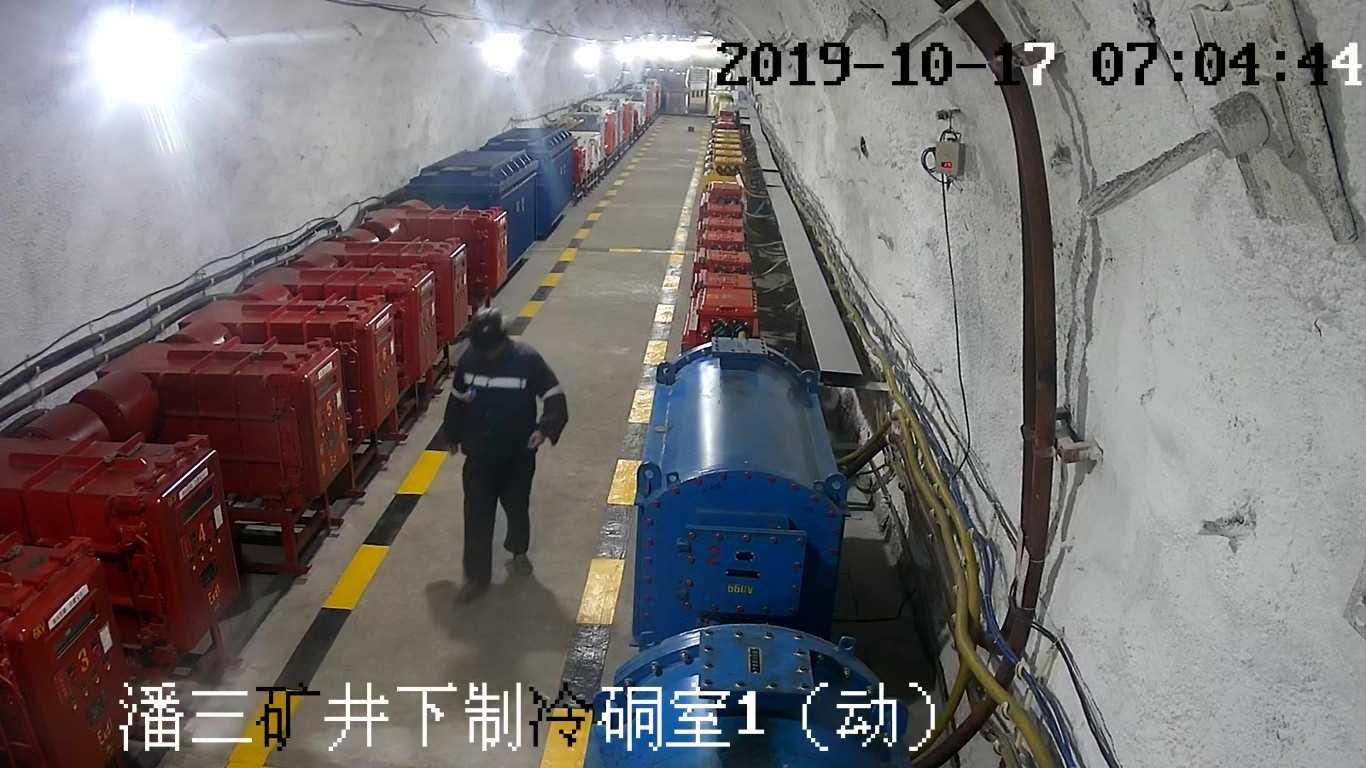helmet: (467, 307, 508, 349)
